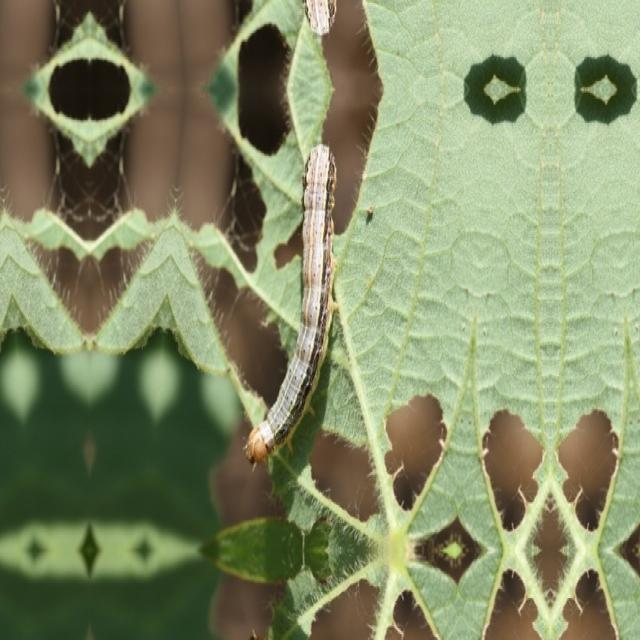armyworm: (242, 141, 337, 471)
